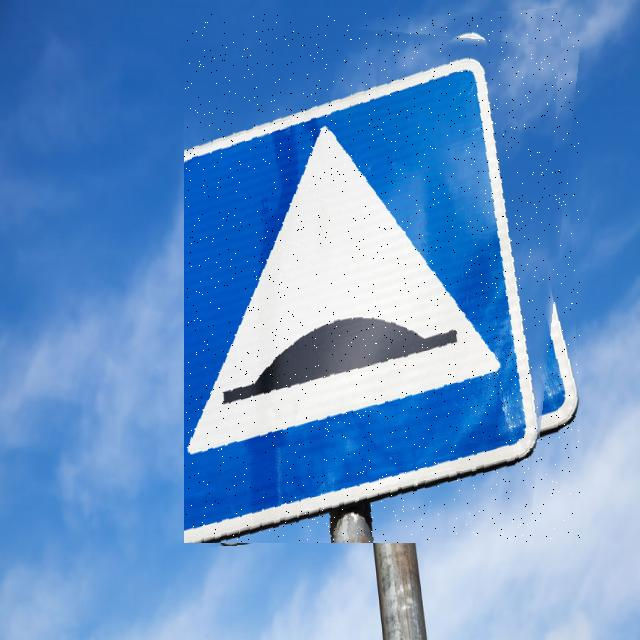hump: (184, 13, 580, 543)
